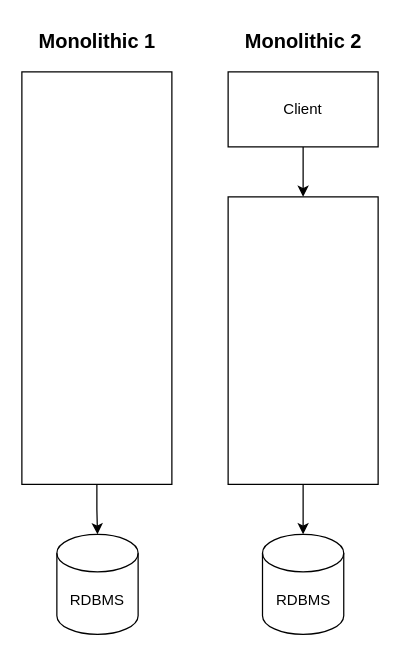
This 400x656 diagram has some shape labels left out. Here are the shapes that lost their labels. From the top down, the box of each, then its label:
(21, 71, 172, 484): Application
(227, 196, 378, 484): Server
